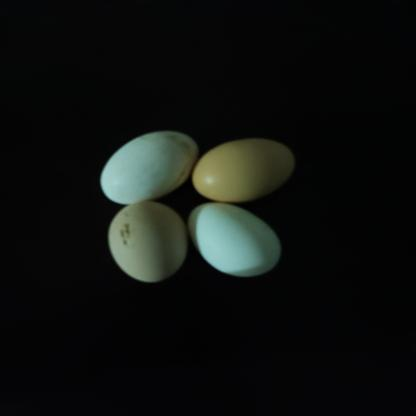egg: (92, 122, 199, 204), (188, 198, 290, 279), (104, 197, 194, 282), (200, 130, 299, 196)
